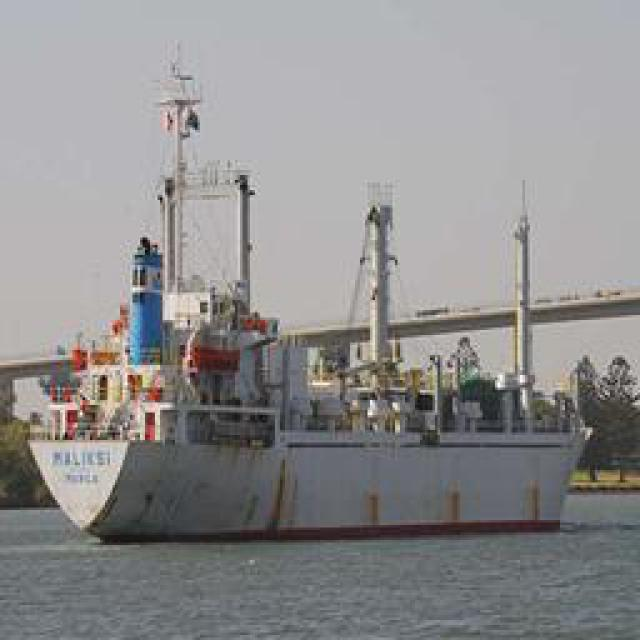Ship: (24, 151, 607, 549)
